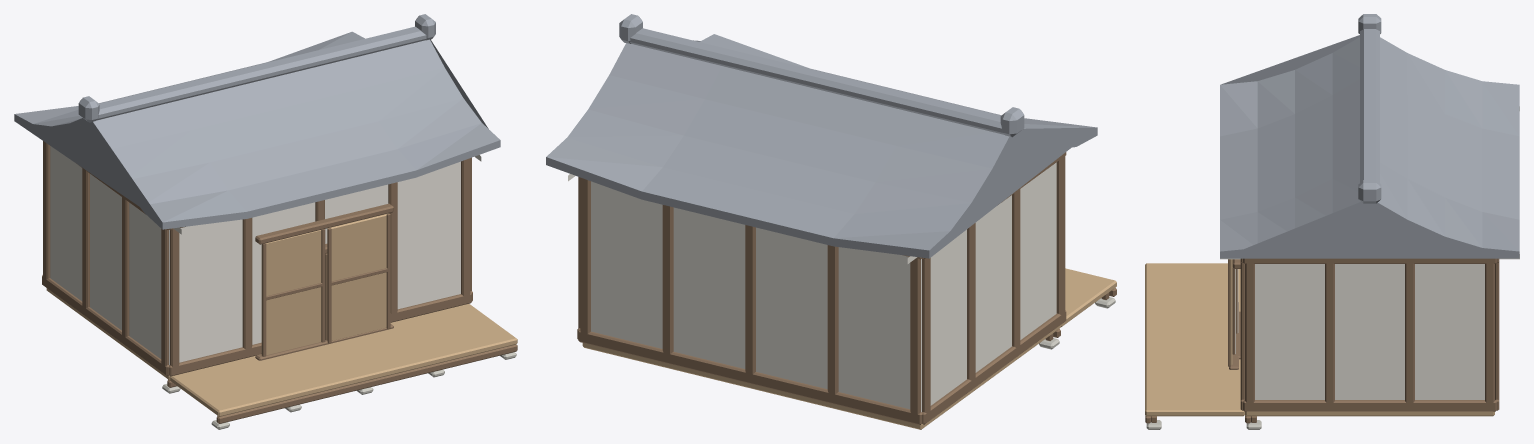
Rendered from river-warehouse.glb.
The picture shows the model from 3 angles, left to right: view 1: azimuth 30°, elevation 25°; view 2: azimuth 150°, elevation 25°; view 3: azimuth 270°, elevation 25°; orthographic projection. The views are drawn at different scales.
Parts seen in each view (by area): view 1: river-warehouse; view 2: river-warehouse; view 3: river-warehouse.
Boxes of the visible parts, <box> form: river-warehouse: <box>14,14,517,429</box>; river-warehouse: <box>546,14,1116,429</box>; river-warehouse: <box>1145,14,1519,429</box>.
Size of the model in its own units: 8.2 by 5.71 by 7.5.
